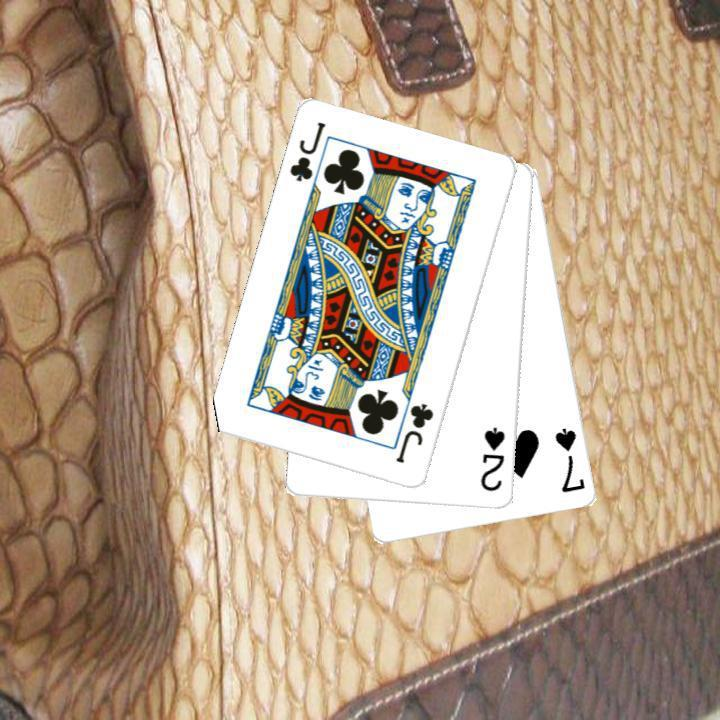2: (476, 423, 508, 494)
7: (551, 424, 588, 495)
J: (285, 118, 329, 185), (392, 400, 436, 466)
